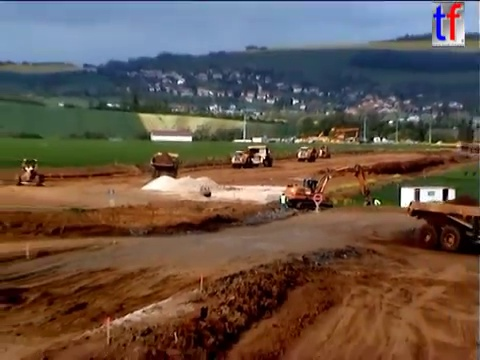crane: (327, 124, 361, 144)
excavator: (281, 162, 376, 213)
truck: (405, 199, 480, 253), (148, 149, 184, 181), (14, 156, 47, 188), (244, 143, 276, 168), (230, 147, 254, 169), (296, 144, 318, 163), (314, 142, 333, 160)
worker: (278, 192, 290, 213), (371, 196, 383, 210)
